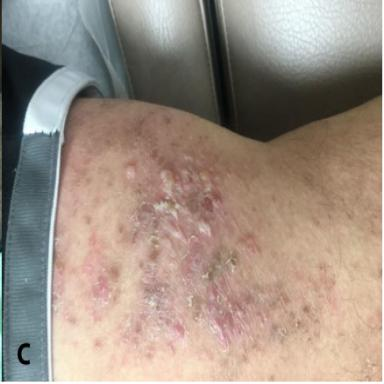Darier_s-Disease: (52, 108, 339, 375)
